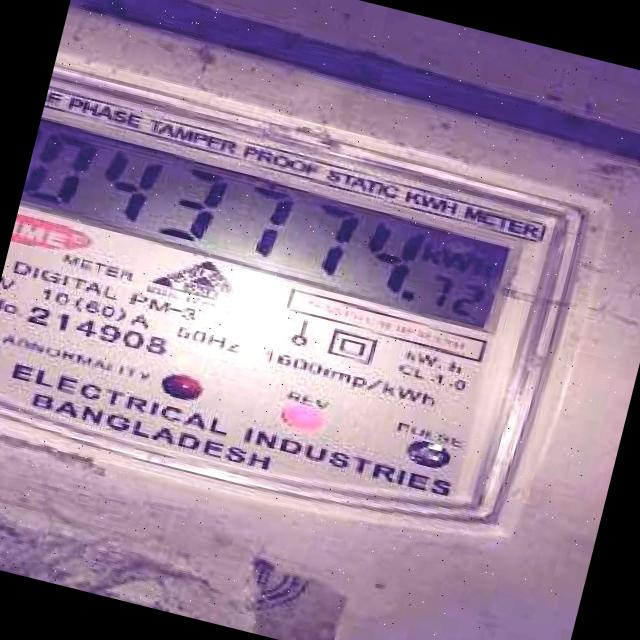LCD: (14, 114, 525, 346)
